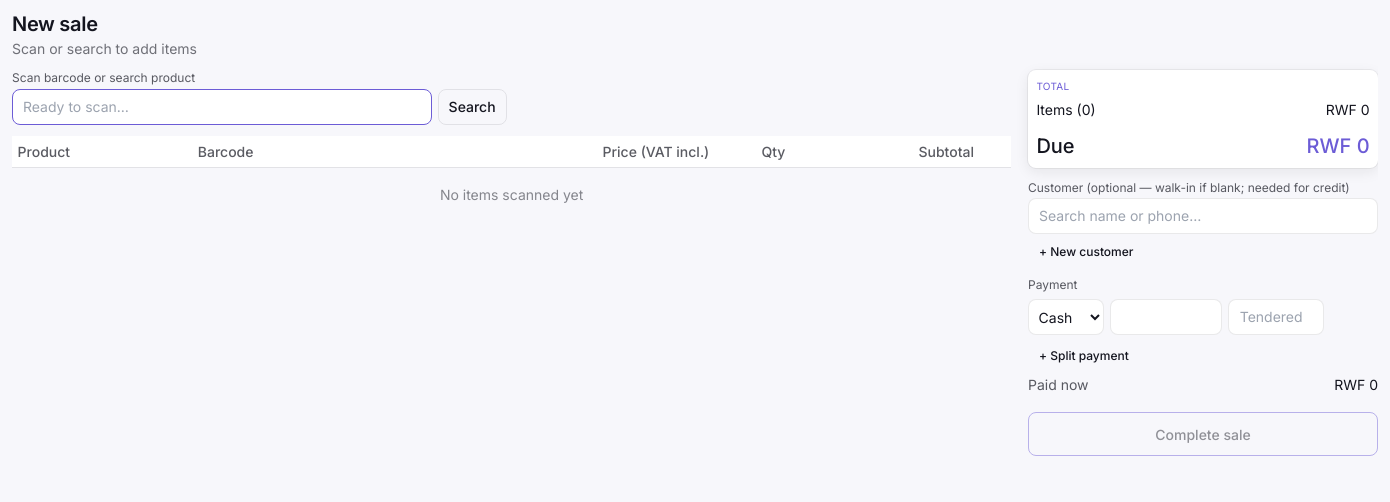
Scenario: PosCheckout › holds Complete sale until a product with no catalog price is given one
This screenshot has width=1390, height=502.
Type "PES-NEW-00001" into the field labelled "Scan barcode or search product" at (222, 107), box [12, 89, 432, 125]
Then press Enter
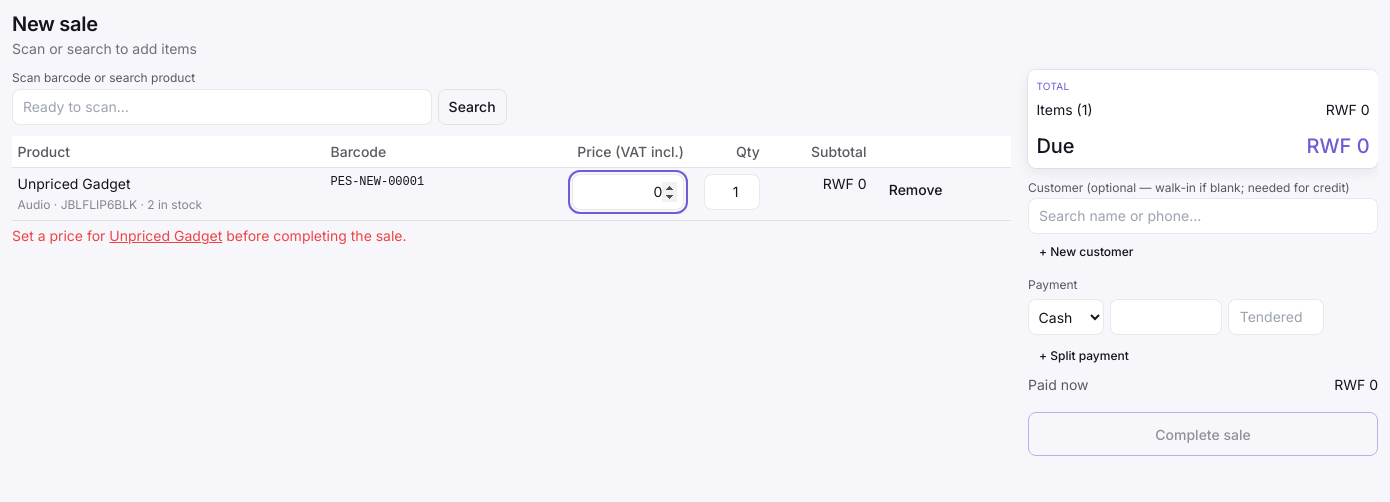
Expected: the button "Complete sale" is disabled, [1028, 412, 1378, 456]
Expected: the text "Set a price for Unpriced Gadget before completing the sale." is shown, [12, 227, 407, 244]
Type keys "{Control>}a{/Control}"
Type keys "5000"
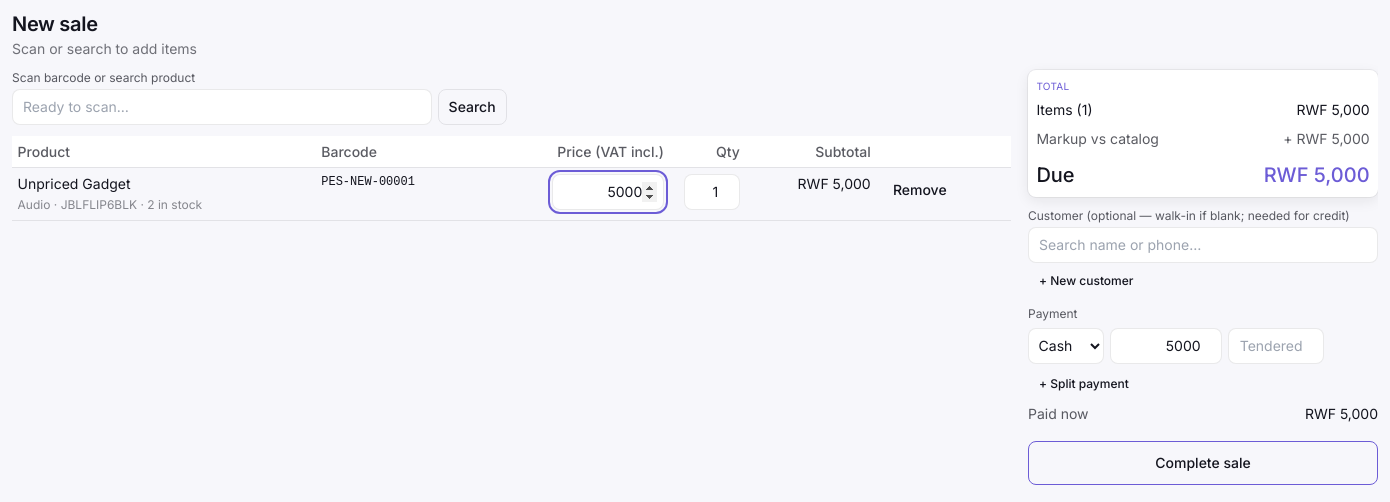
Expected: the button "Complete sale" is enabled, [1028, 441, 1378, 485]
Expected: the text "Set a price for" is gone
